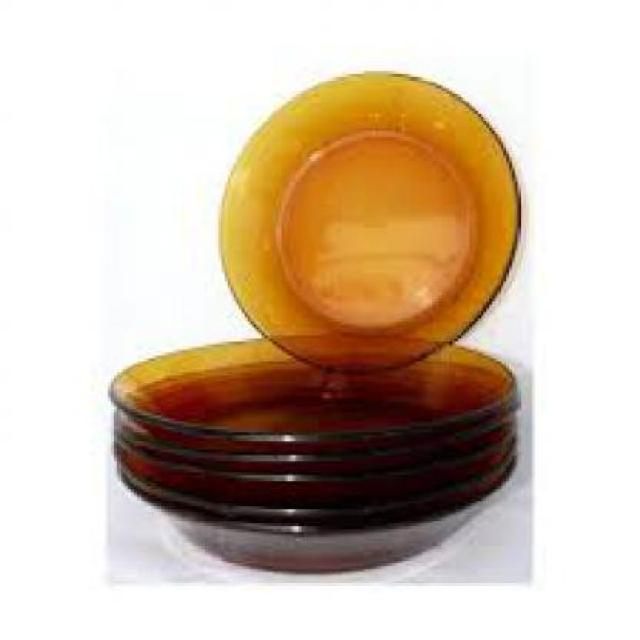kaca: (217, 71, 518, 372), (108, 410, 512, 572), (108, 334, 512, 444)
